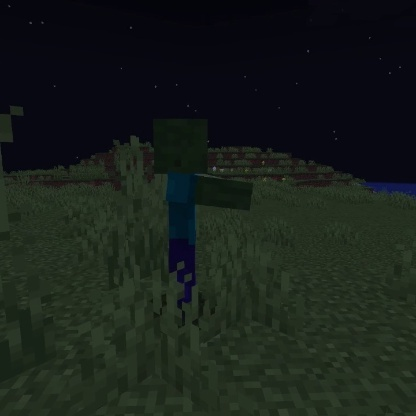zombie: (147, 112, 257, 327)
